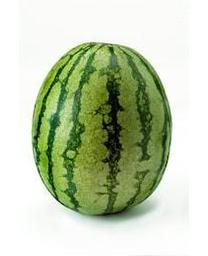watermelon: (31, 43, 172, 215)
